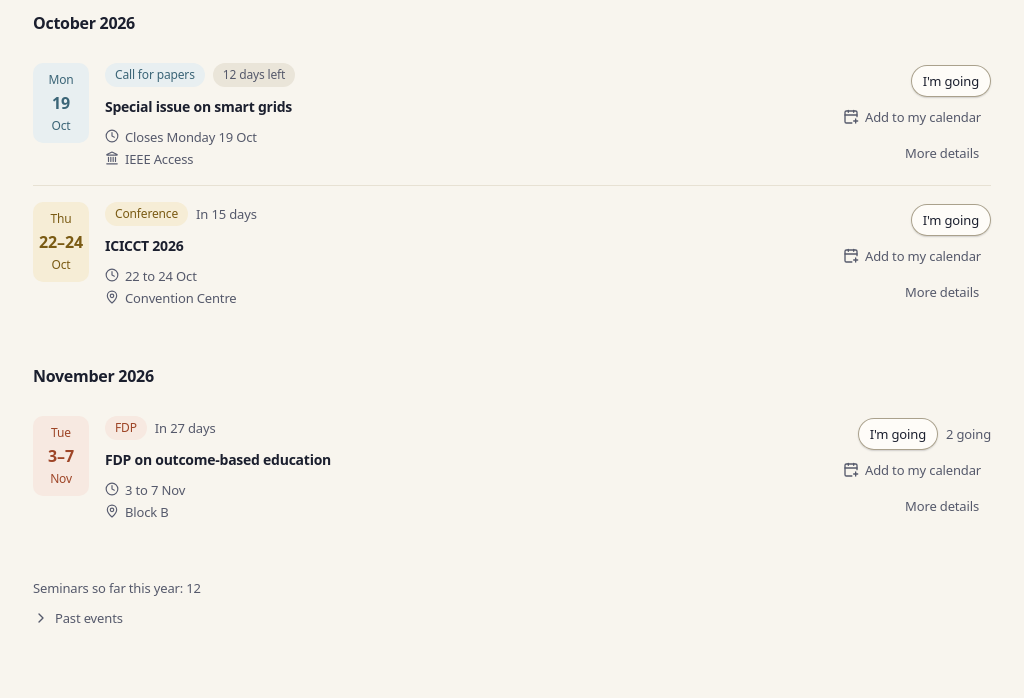
Scenario: Events page: the ones that are over › opens the archive on request, and only then asks for it
(page scrolled)
Click the button "Past events" at [78, 618], box [25,602,131,634]
(page scrolled)
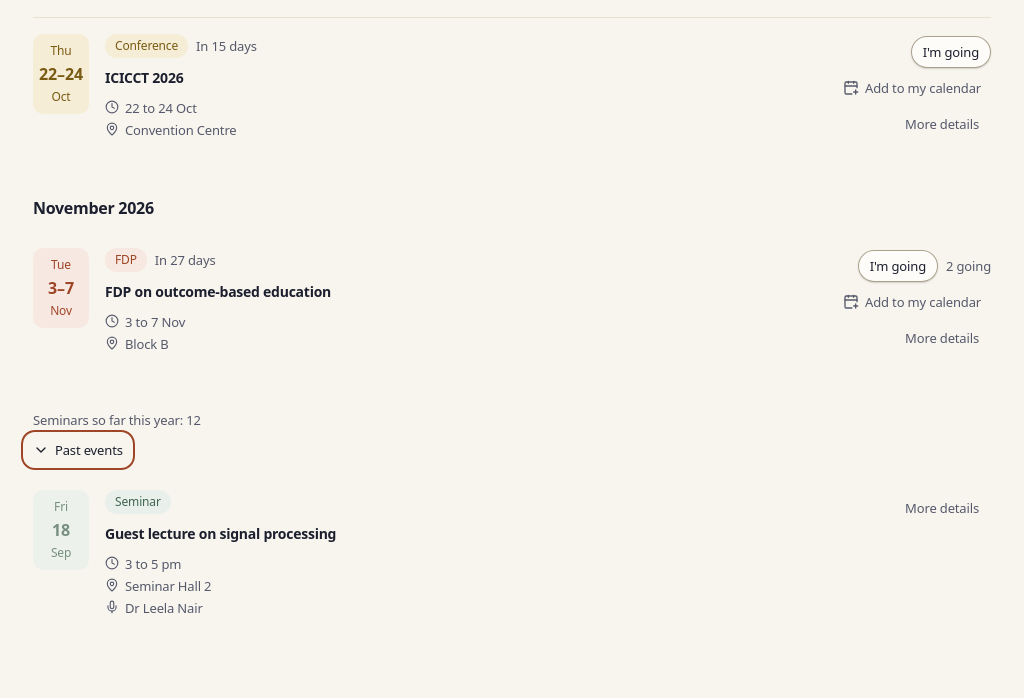
Check: the button "Guest lecture on signal processing" is shown, box [105,522,336,546]
